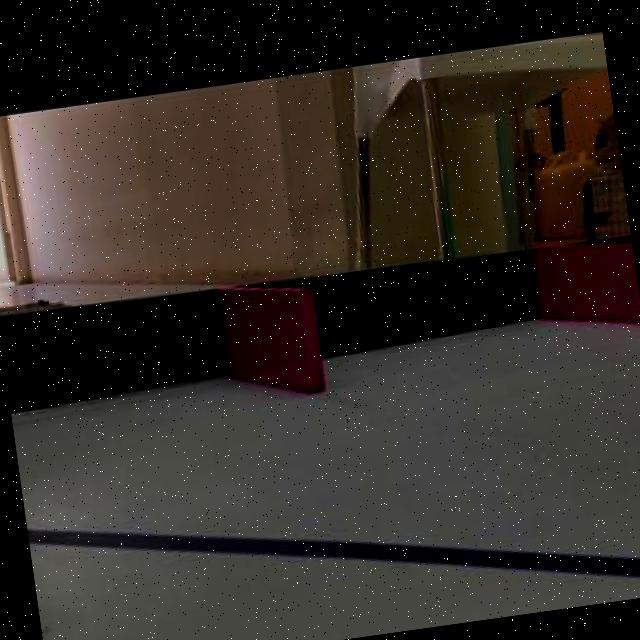xparking: (225, 288, 322, 396), (542, 246, 640, 333)
